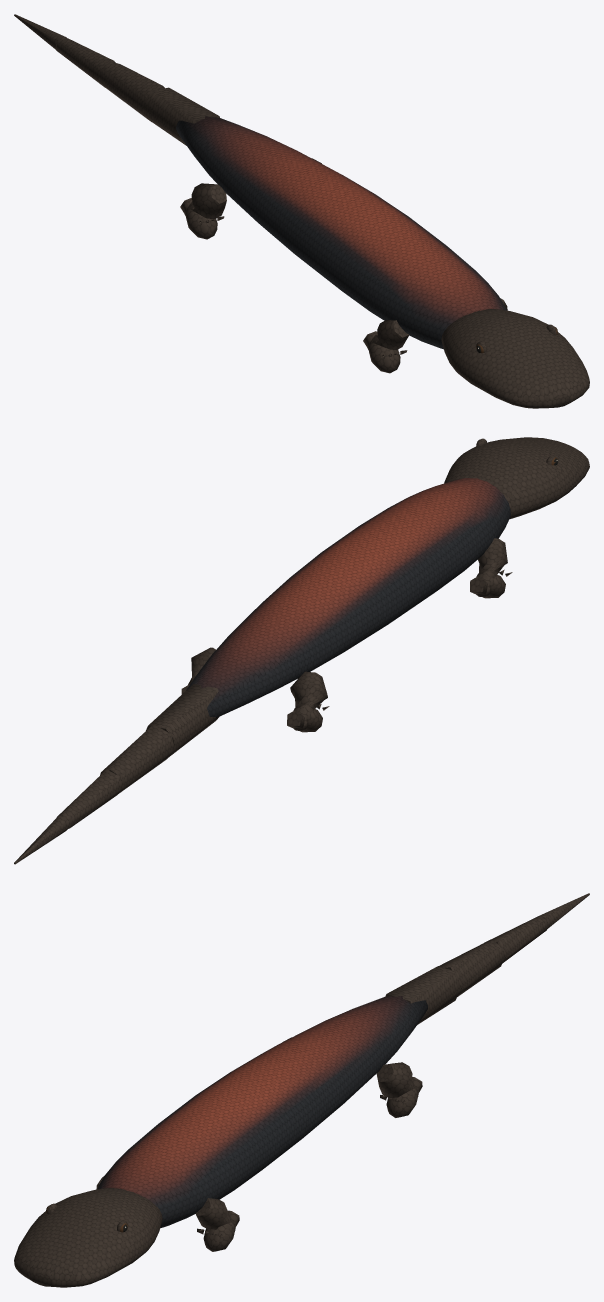
File: red-backed-salamander.glb
3 renders of one model, top to bottom at view 1: azimuth 30°, elevation 25°; view 2: azimuth 150°, elevation 25°; view 3: azimuth 330°, elevation 25°, orthographic.
Parts seen in each view (by area): view 1: red-backed-salamander__torso.001, red-backed-salamander__head.001, red-backed-salamander__tail_surface_0.002, red-backed-salamander__tail_surface_1.002, red-backed-salamander__tail_surface_2.002, red-backed-salamander__upper_BL.001, red-backed-salamander__lower_FL.001, red-backed-salamander__upper_FL.001, red-backed-salamander__lower_BL.001; view 2: red-backed-salamander__torso.001, red-backed-salamander__head.001, red-backed-salamander__tail_surface_0.002, red-backed-salamander__tail_surface_1.002, red-backed-salamander__tail_surface_2.002, red-backed-salamander__upper_BL.001, red-backed-salamander__upper_FL.001, red-backed-salamander__tail_surface_3.002, red-backed-salamander__lower_FL.001, red-backed-salamander__lower_BL.001; view 3: red-backed-salamander__torso.001, red-backed-salamander__head.001, red-backed-salamander__tail_surface_0.002, red-backed-salamander__tail_surface_1.002, red-backed-salamander__tail_surface_2.002, red-backed-salamander__upper_BR.001, red-backed-salamander__lower_FR.001, red-backed-salamander__upper_FR.001, red-backed-salamander__lower_BR.001.
Part boxes in pixels (left/top/right/bottom): red-backed-salamander__torso.001: left=176, top=116, right=506, bottom=349; red-backed-salamander__head.001: left=441, top=309, right=589, bottom=408; red-backed-salamander__tail_surface_0.002: left=143, top=87, right=219, bottom=145; red-backed-salamander__tail_surface_1.002: left=99, top=61, right=164, bottom=121; red-backed-salamander__tail_surface_2.002: left=56, top=37, right=115, bottom=87; red-backed-salamander__upper_BL.001: left=185, top=183, right=226, bottom=219; red-backed-salamander__lower_FL.001: left=363, top=331, right=407, bottom=373; red-backed-salamander__upper_FL.001: left=367, top=320, right=409, bottom=350; red-backed-salamander__lower_BL.001: left=180, top=197, right=224, bottom=239; red-backed-salamander__torso.001: left=186, top=478, right=510, bottom=717; red-backed-salamander__head.001: left=444, top=437, right=589, bottom=519; red-backed-salamander__tail_surface_0.002: left=146, top=684, right=219, bottom=756; red-backed-salamander__tail_surface_1.002: left=100, top=724, right=174, bottom=793; red-backed-salamander__tail_surface_2.002: left=56, top=769, right=122, bottom=828; red-backed-salamander__upper_BL.001: left=290, top=671, right=327, bottom=730; red-backed-salamander__upper_FL.001: left=476, top=538, right=507, bottom=597; red-backed-salamander__tail_surface_3.002: left=14, top=815, right=69, bottom=864; red-backed-salamander__lower_FL.001: left=470, top=569, right=512, bottom=598; red-backed-salamander__lower_BL.001: left=287, top=703, right=329, bottom=732; red-backed-salamander__torso.001: left=97, top=996, right=427, bottom=1228; red-backed-salamander__head.001: left=14, top=1188, right=162, bottom=1287; red-backed-salamander__tail_surface_0.002: left=385, top=966, right=461, bottom=1024; red-backed-salamander__tail_surface_1.002: left=439, top=940, right=505, bottom=996; red-backed-salamander__tail_surface_2.002: left=484, top=916, right=548, bottom=963; red-backed-salamander__upper_BR.001: left=376, top=1062, right=419, bottom=1098; red-backed-salamander__lower_FR.001: left=197, top=1210, right=239, bottom=1251; red-backed-salamander__upper_FR.001: left=195, top=1198, right=236, bottom=1229; red-backed-salamander__lower_BR.001: left=380, top=1077, right=422, bottom=1117.
Bounding box in the file's own units: 0.3314 × 0.2153 × 2.33.
Materials: 2 (1 with a texture image).
